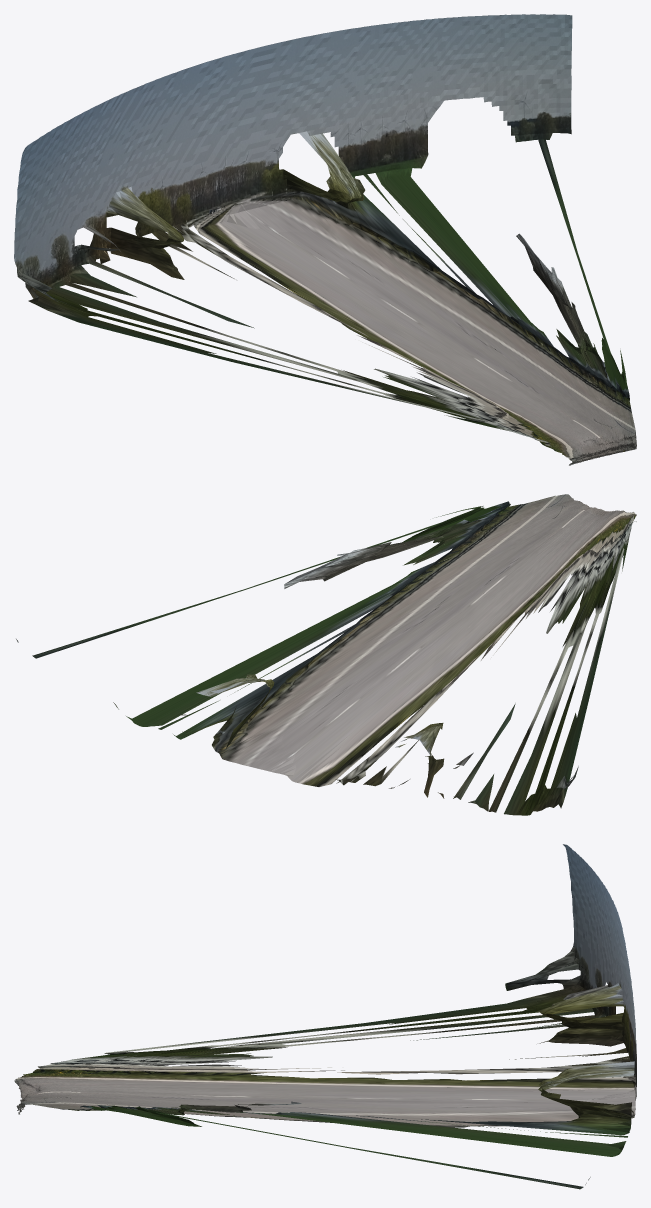
The picture shows the model from 3 angles, top to bottom: view 1: azimuth 30°, elevation 25°; view 2: azimuth 150°, elevation 25°; view 3: azimuth 270°, elevation 25°; orthographic projection. The views are drawn at different scales.
Parts seen in each view (by area): view 1: defaultobject; view 2: defaultobject; view 3: defaultobject.
Part boxes in pixels (box(x1,y1,x2,y2)): defaultobject: box(14, 14, 636, 465); defaultobject: box(16, 494, 636, 815); defaultobject: box(14, 844, 636, 1189).
Size of the model in its own units: 41.14 by 12.45 by 44.46.
1 material, 1 textured.
